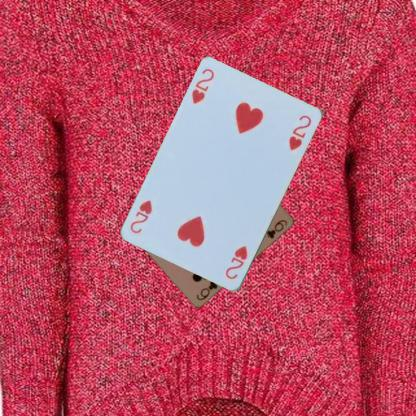2h: (189, 66, 215, 106), (222, 243, 249, 281)
6c: (194, 277, 219, 302)
